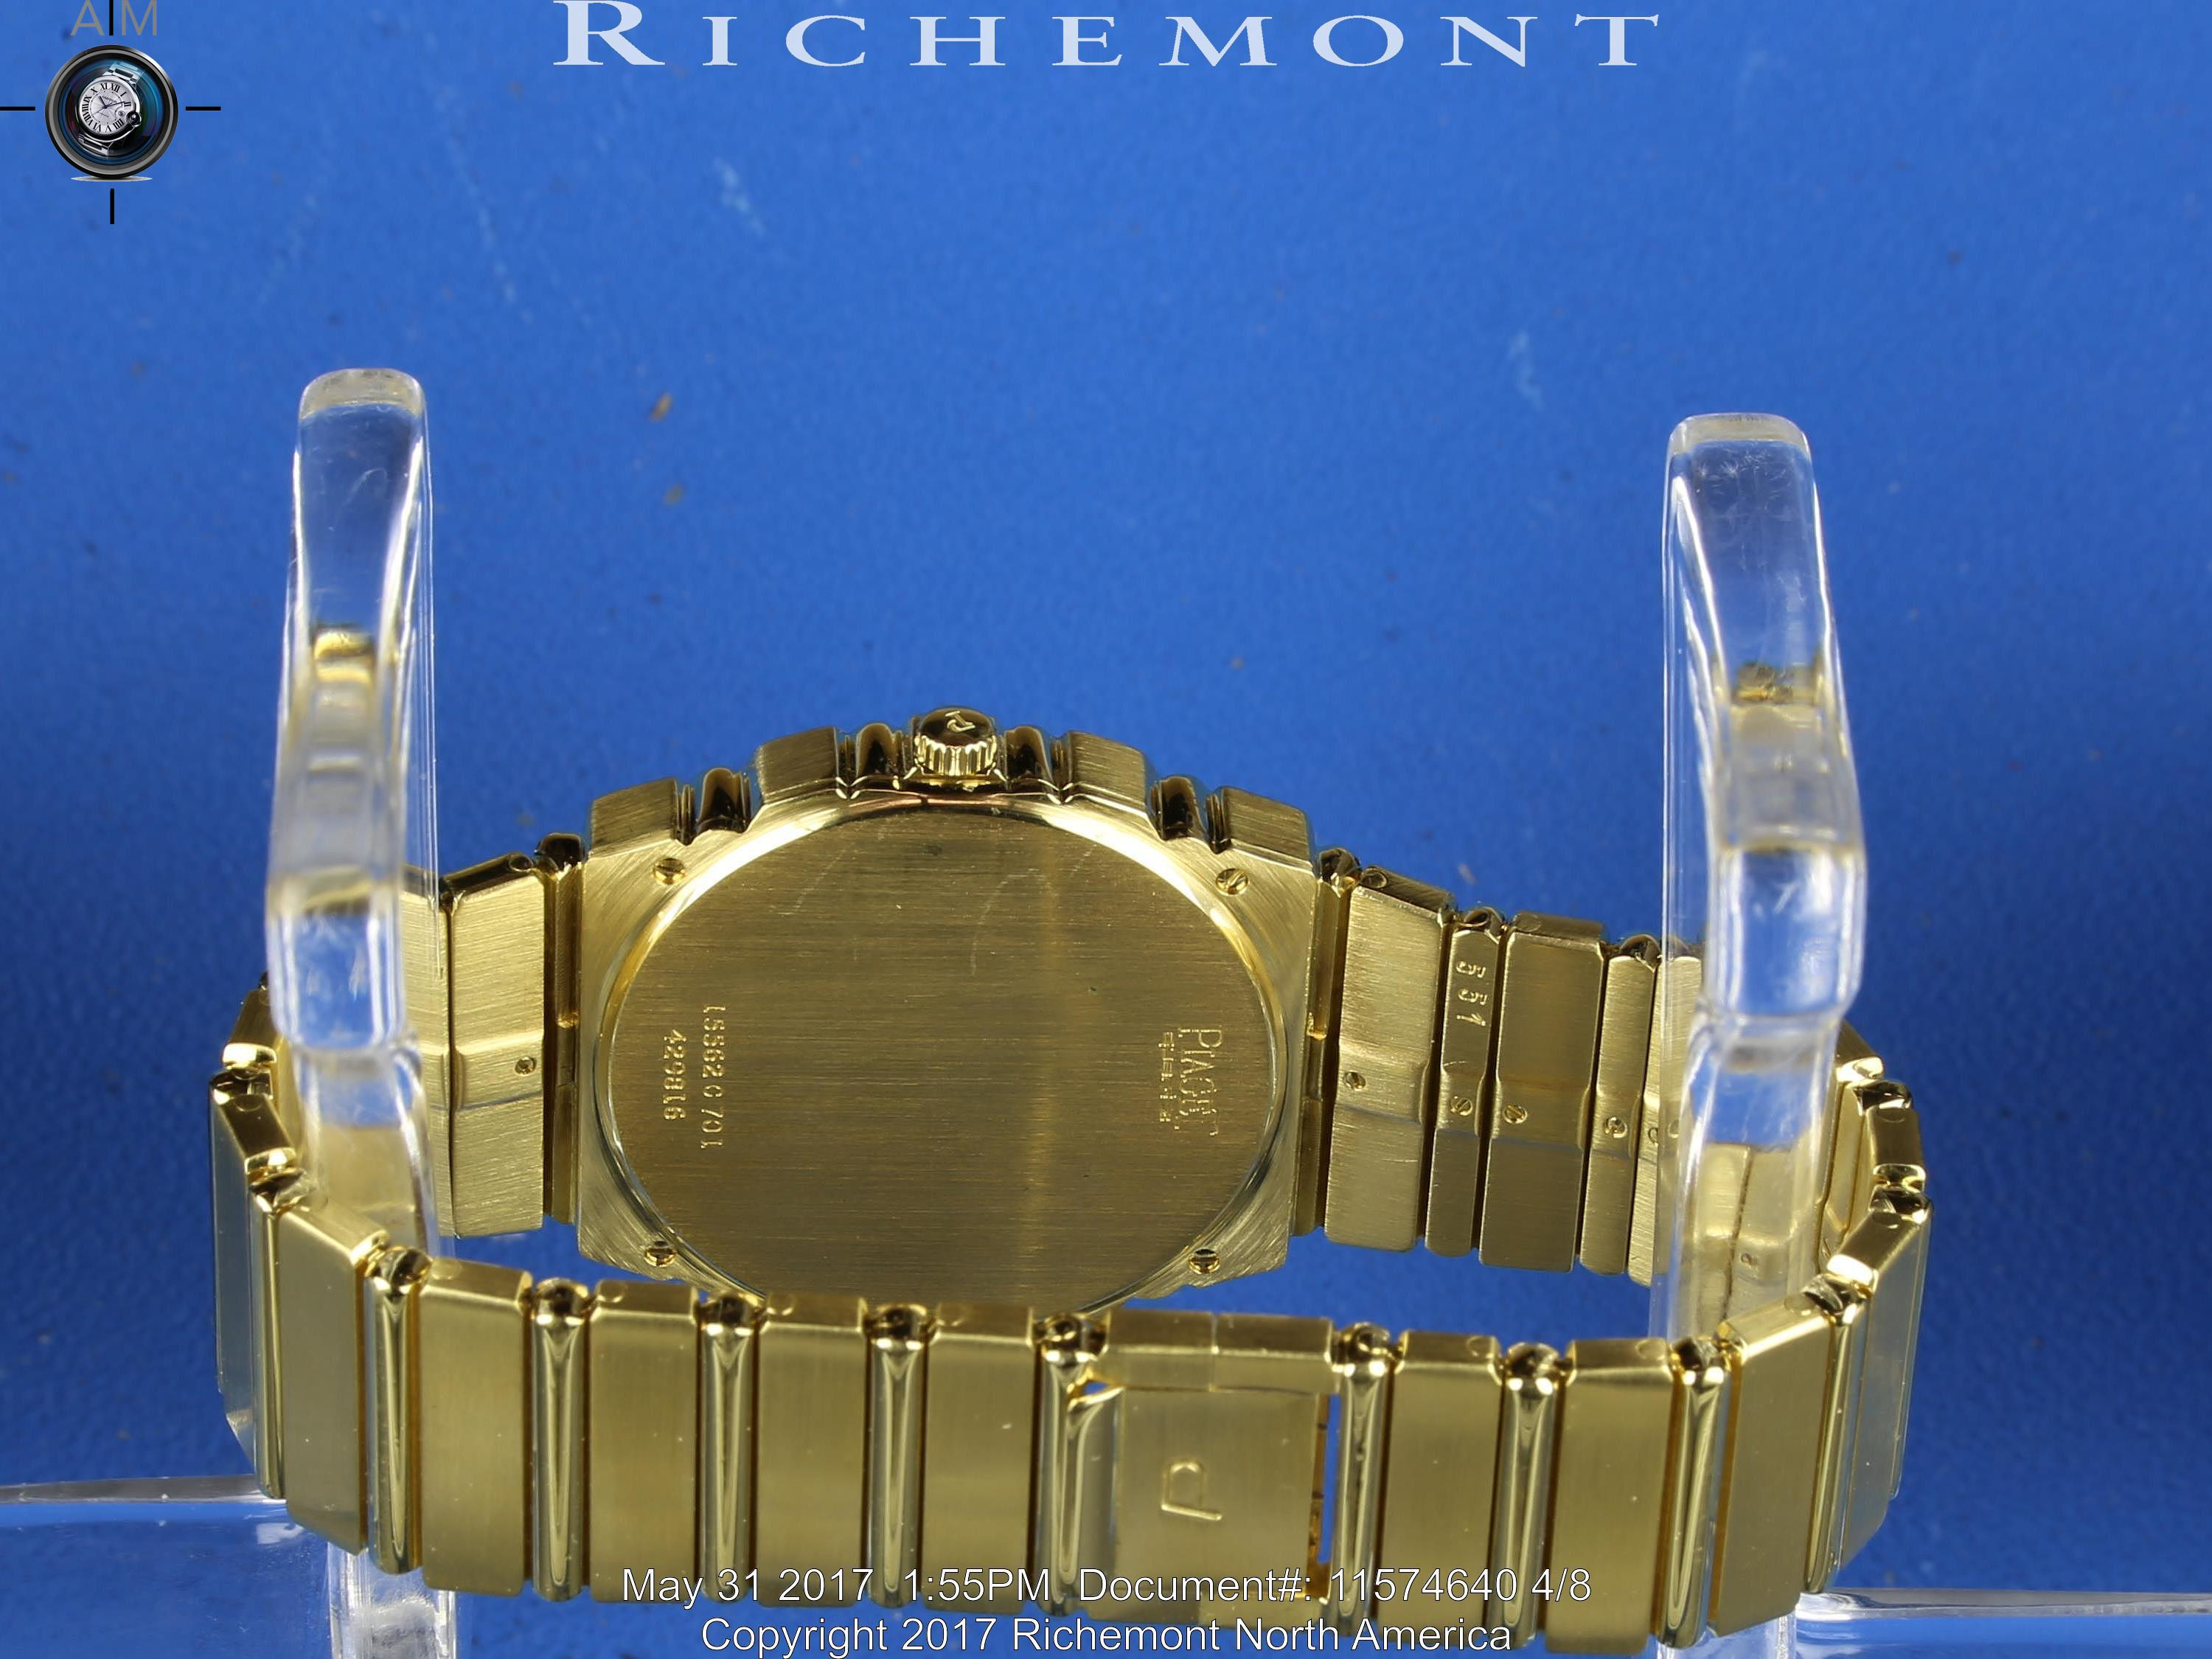Watch BackCase: (582, 708, 1310, 1310)
